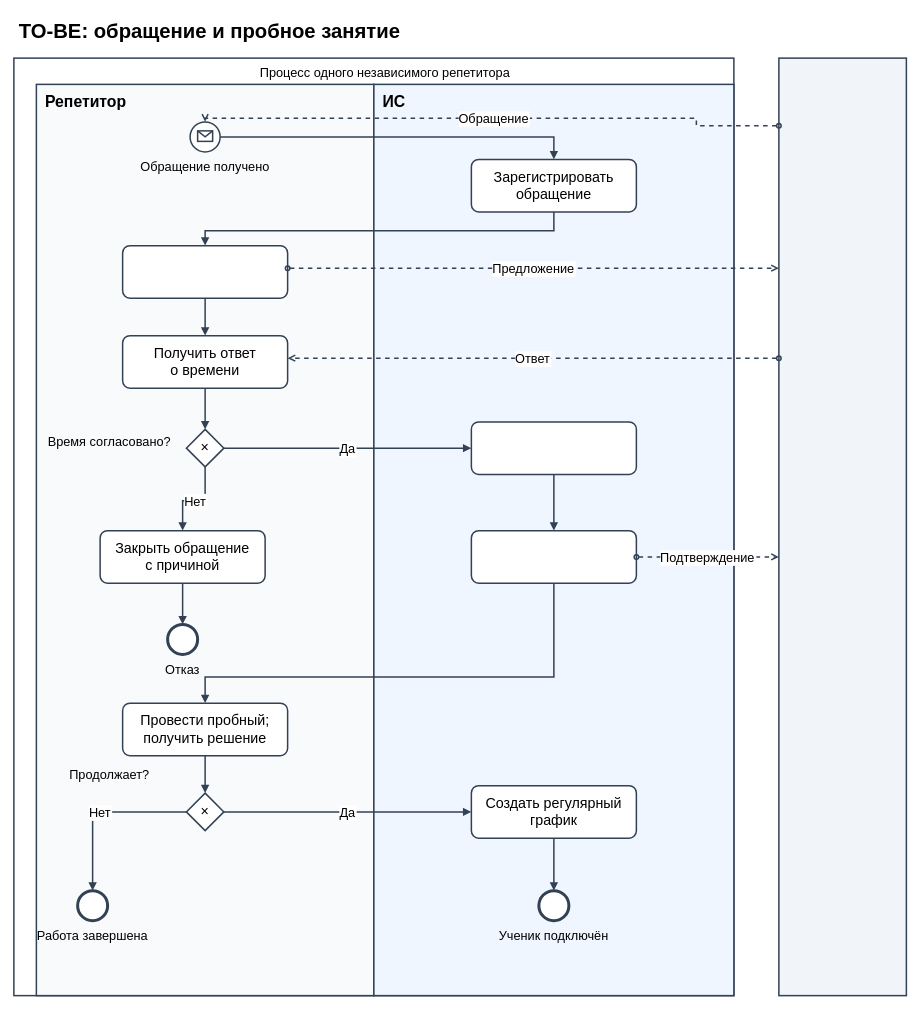
Some shapes in this 920 by 1009 pixel diagram are drawn without their labels. The box of each missing label's shape, as (x1, y1, x2, y2) in pixels:
Записать на пробный урок: (470, 421, 637, 475)
Отправить подтверждение: (470, 530, 637, 584)
Предложить время: (122, 244, 288, 298)
Ученик / родитель: (778, 57, 907, 996)
